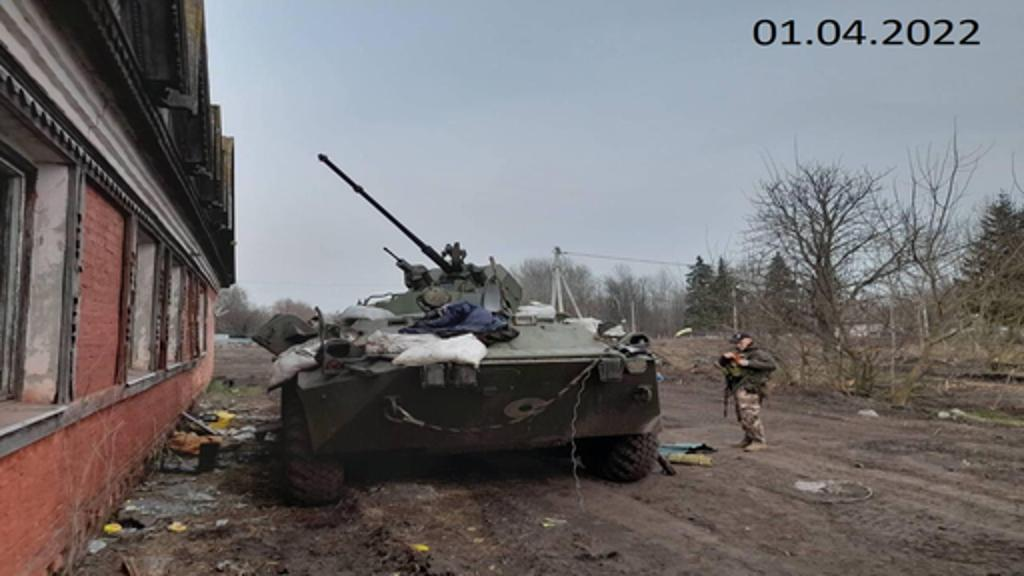APC-IFV: (264, 146, 668, 508)
